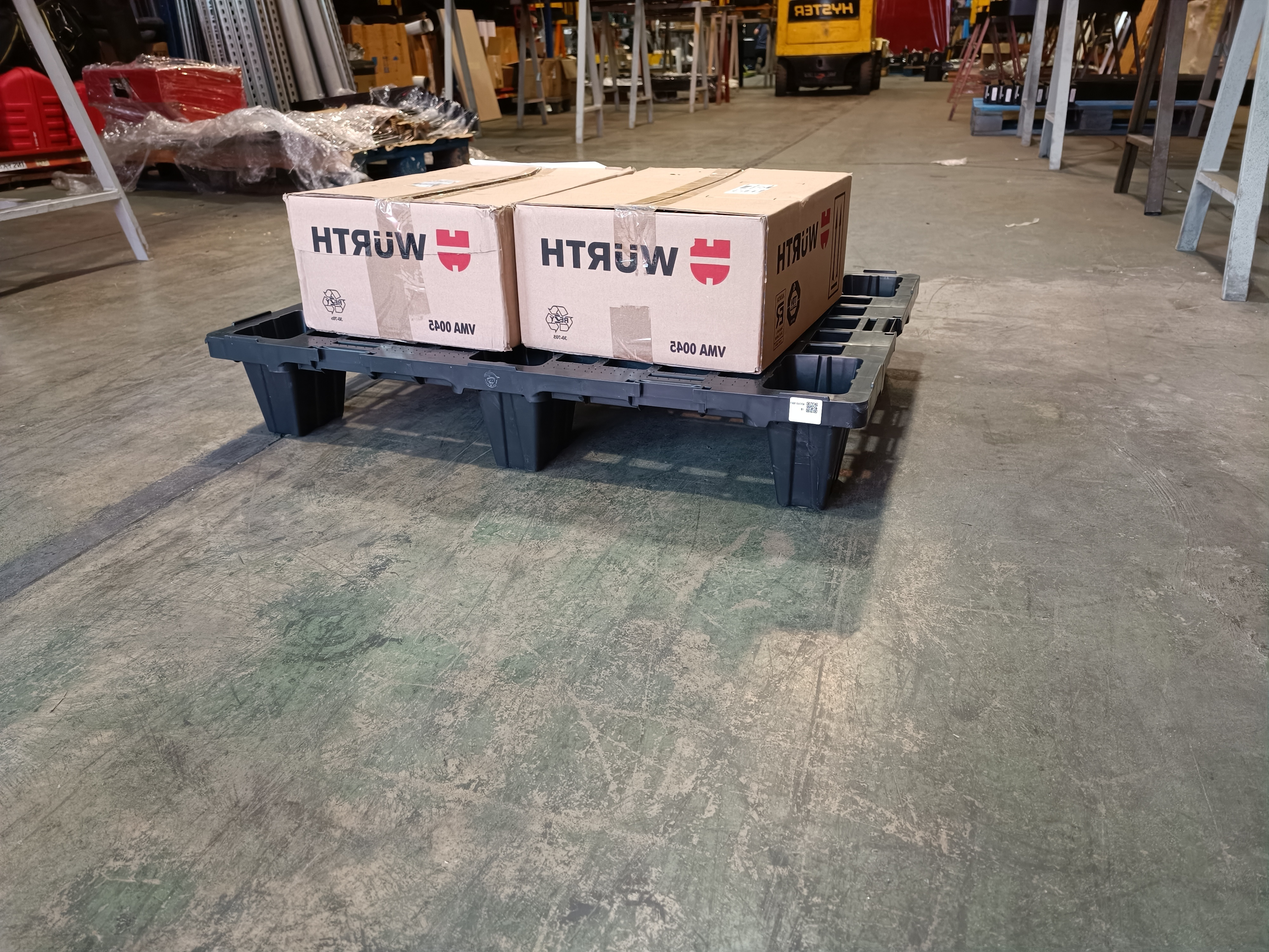block: (209, 353, 343, 438), (482, 393, 581, 466), (772, 425, 841, 508)
front: (214, 335, 867, 508)
hole pallet: (538, 401, 775, 508), (283, 364, 496, 458)
